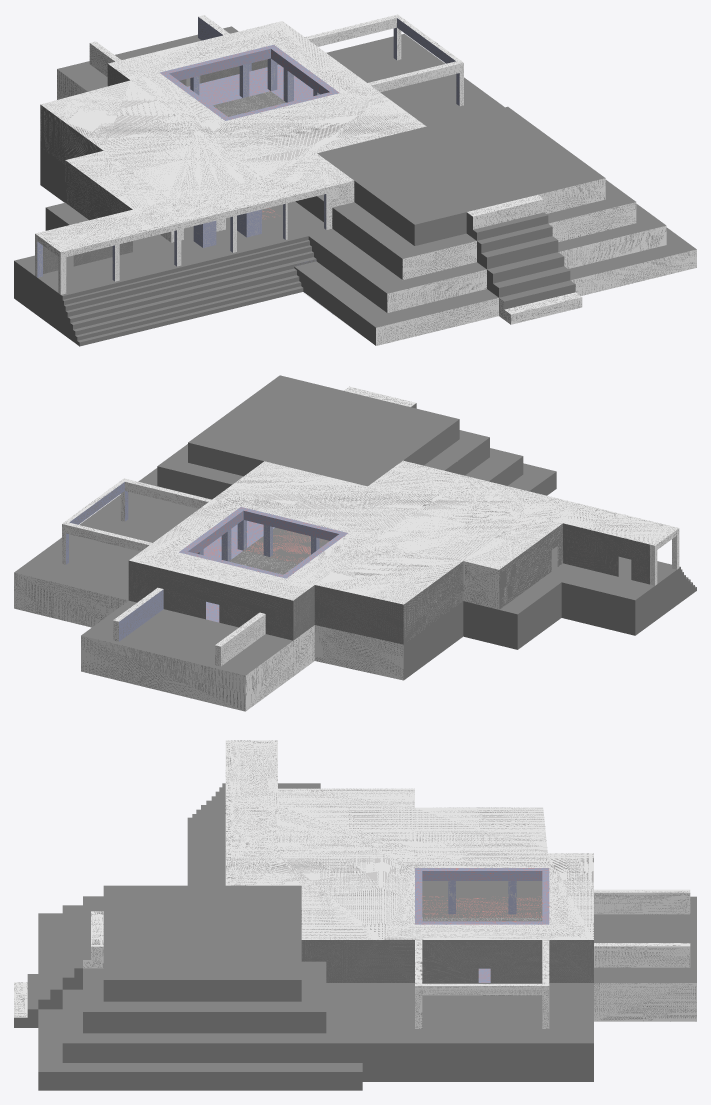
The model's file is Quetzalpapalotl.dae.
The picture shows the model from 3 angles, top to bottom: view 1: azimuth 30°, elevation 25°; view 2: azimuth 150°, elevation 25°; view 3: azimuth 270°, elevation 25°; orthographic projection. The views are drawn at different scales.
Visible parts, largest first — view 1: Model; view 2: Model; view 3: Model.
Part boxes in pixels (box(x1,y1,x2,y2)): Model: box(14, 14, 696, 346); Model: box(14, 375, 696, 711); Model: box(14, 740, 696, 1090).
Size of the model in its own units: 8.54 by 1.21 by 9.16.
